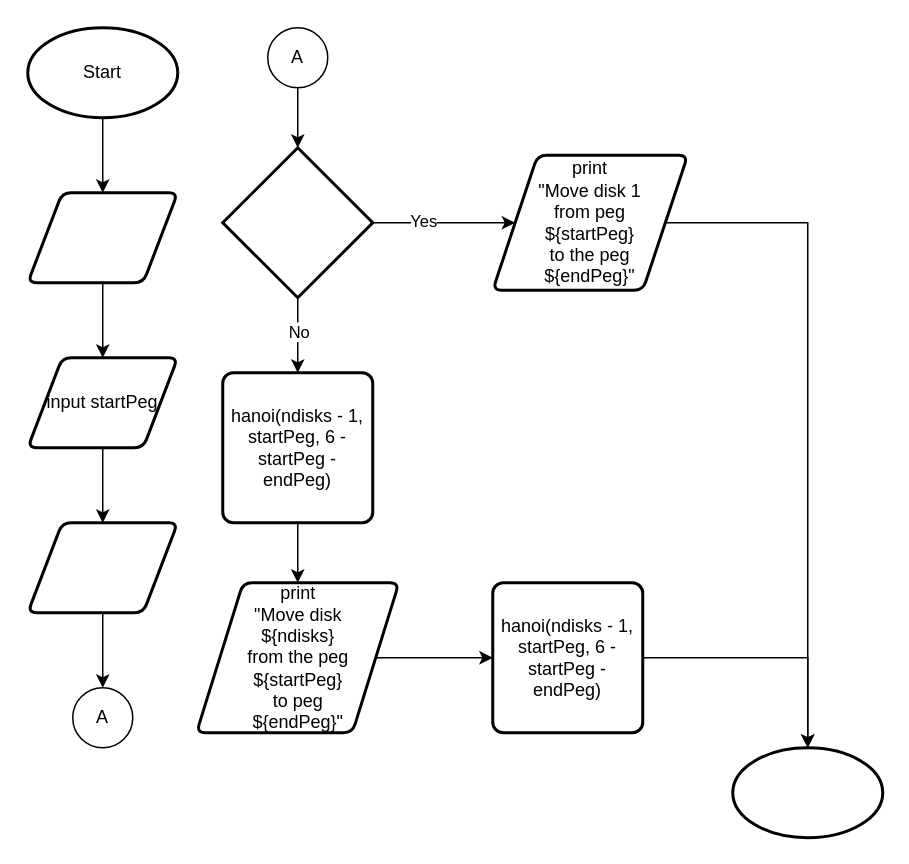
The diagram is 909 pixels wide and 864 high, and some of its shapes have lost their labels. Each missing label, with the centre of its shape:
"if ndisks == 1" goes at [297,222].
"input endPeg" goes at [102,567].
"input ndisks" goes at [102,237].
"Stop" goes at [807,792].
